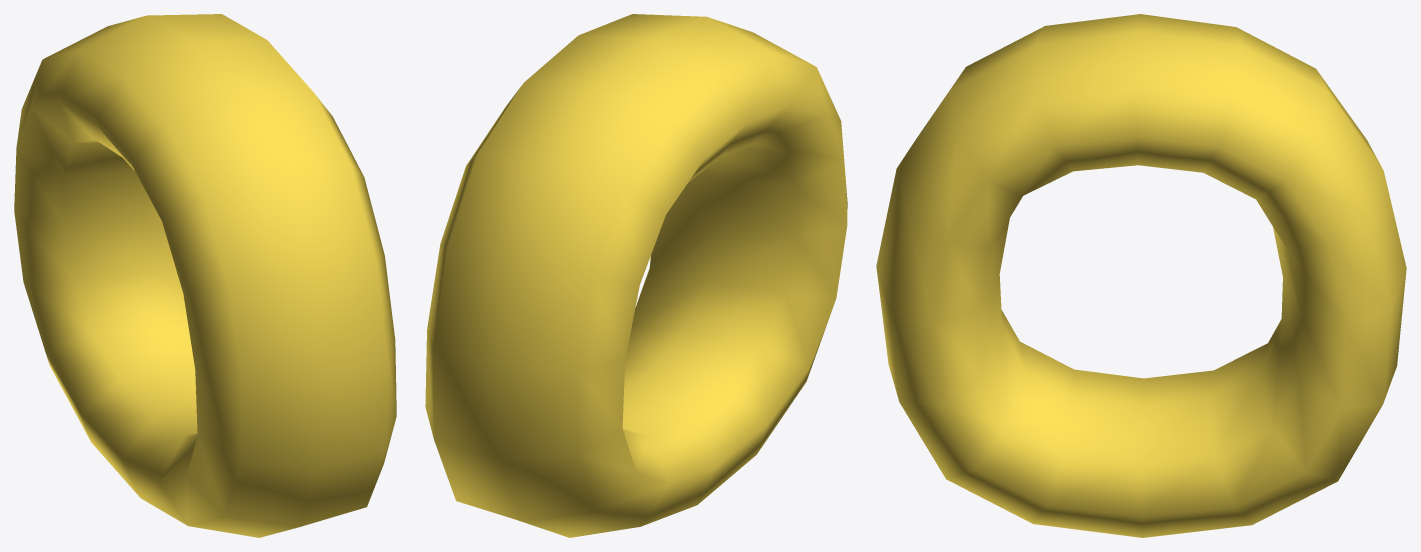
File: ring 1.fbx
The picture shows the model from 3 angles, left to right: view 1: azimuth 30°, elevation 25°; view 2: azimuth 150°, elevation 25°; view 3: azimuth 270°, elevation 25°; orthographic projection.
Visible parts, largest first — view 1: Ring1; view 2: Ring1; view 3: Ring1.
Part boxes in pixels (x1,y1,x2,y2): Ring1: (14,14,396,537); Ring1: (425,14,847,537); Ring1: (876,14,1406,537).
Size of the model in its own units: 6.4 by 6.24 by 3.12.
